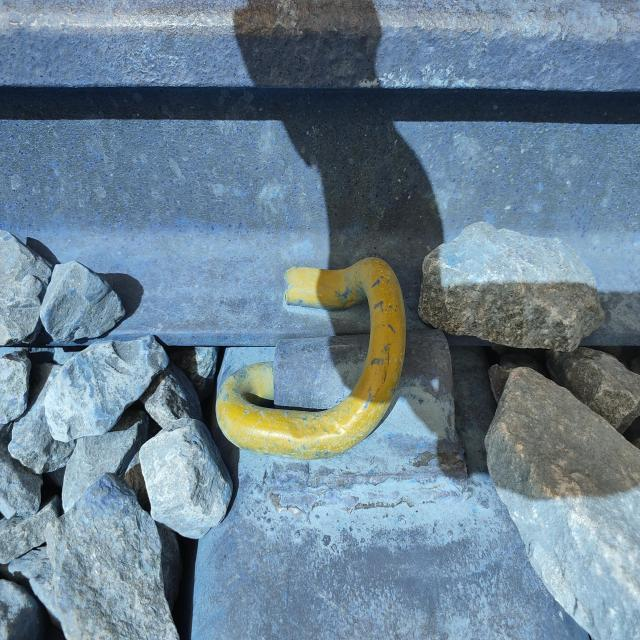Good Fasteners: (216, 257, 467, 508)
